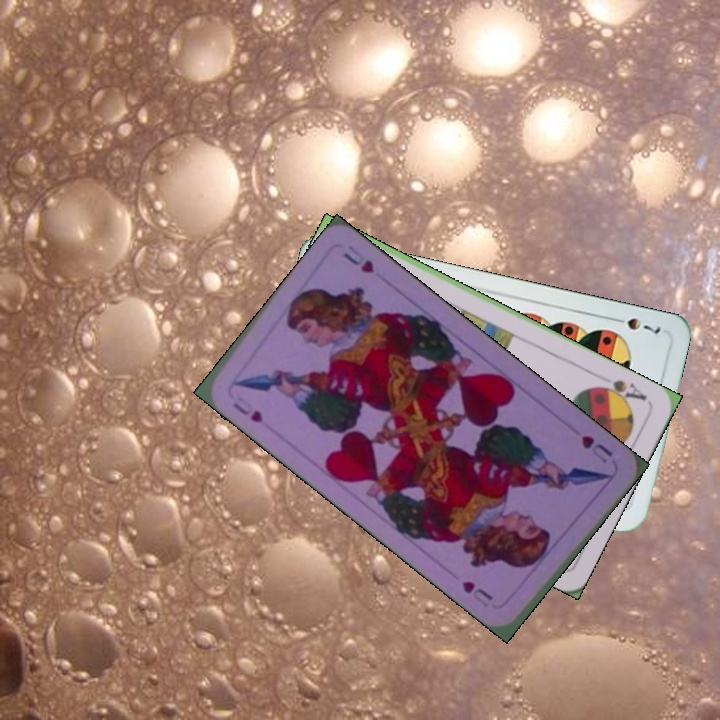HU: (577, 431, 616, 466), (228, 392, 266, 425)
S7: (607, 313, 664, 336)
SA: (591, 371, 650, 407)
